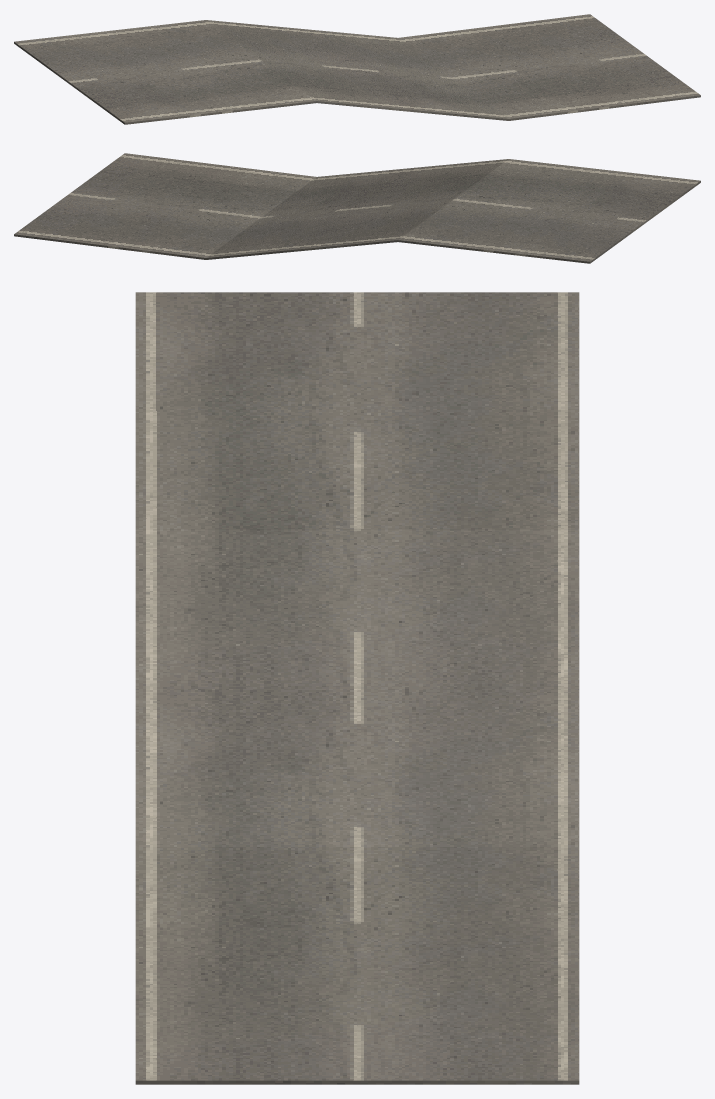
The model's file is road_4_slope_no_sides.glb.
3 views of the same model, one above another, from view 1: azimuth 30°, elevation 25°; view 2: azimuth 150°, elevation 25°; view 3: azimuth 270°, elevation 25° (orthographic). The views are drawn at different scales.
Visible parts, largest first — view 1: road_4_slope_no_sides; view 2: road_4_slope_no_sides; view 3: road_4_slope_no_sides.
Part boxes in pixels (x1,y1,x2,y2): road_4_slope_no_sides: [14, 14, 700, 124]; road_4_slope_no_sides: [14, 153, 700, 263]; road_4_slope_no_sides: [135, 292, 579, 1084].
Bounding box in the file's own units: 48 × 9.16 × 16.
1 material, 1 textured.
